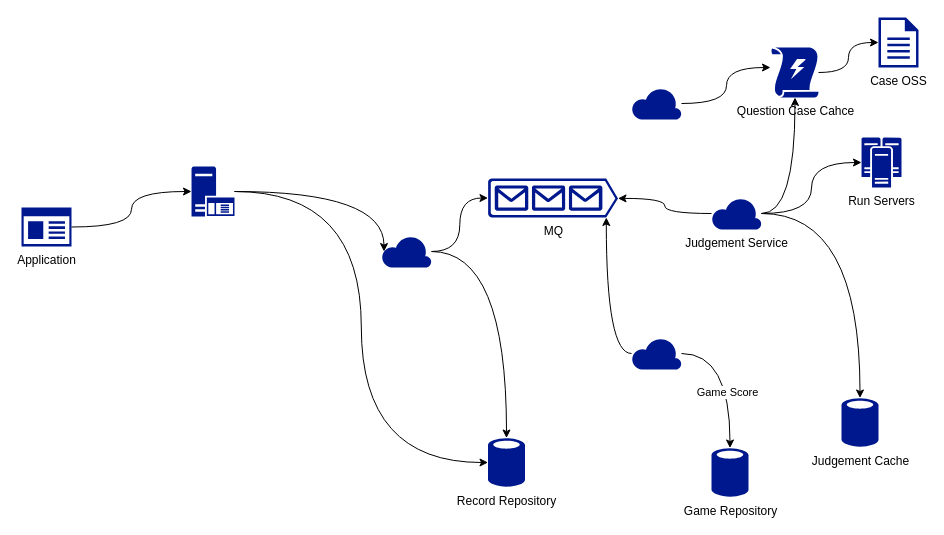
Some shapes in this 944 by 535 pixel diagram are drawn without their labels. Here are the shapes that lost their labels. From the top down, the centre of each, then its label:
At pixel 656 103: "Question Service".
At pixel 212 191: "BFF".
At pixel 406 251: "Record Service".
At pixel 656 353: "Game Service".
